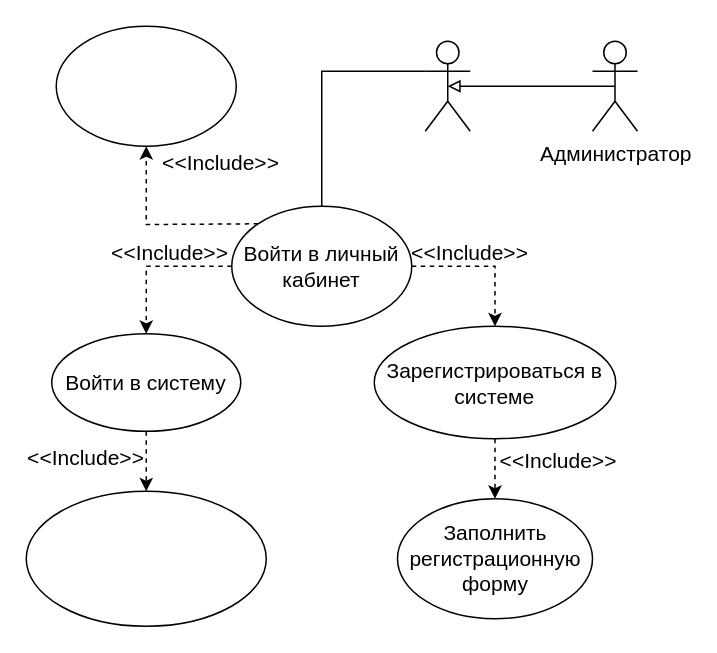
Image size: 717x653. Some labels were removed from this diagram. Each missing label, with the centre of its shape:
"Водитель-курьер" belongs at pixel 447 85.
"Заполнить форму для входа в систему" belongs at pixel 145 558.
"Список заявок на доставку" belongs at pixel 145 85.
